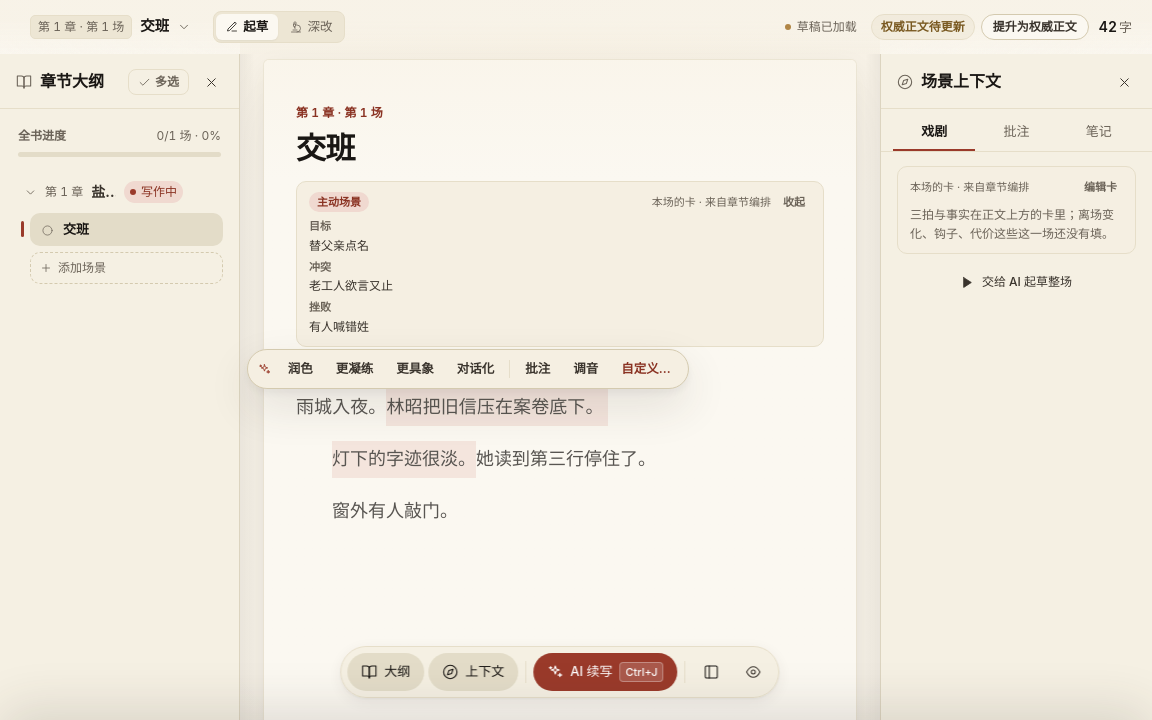
写作台 · 跨段改写按段换回（#20b） › 候选出来前选中的第二段被改了：不替换（说清楚原因），正文原样
This screenshot has width=1152, height=720.
Expected: the field with class "wr-editor" shows "林昭", [296,397,656,522]
Click the button "润色".
click(300, 369)  # box [277,354,324,384]
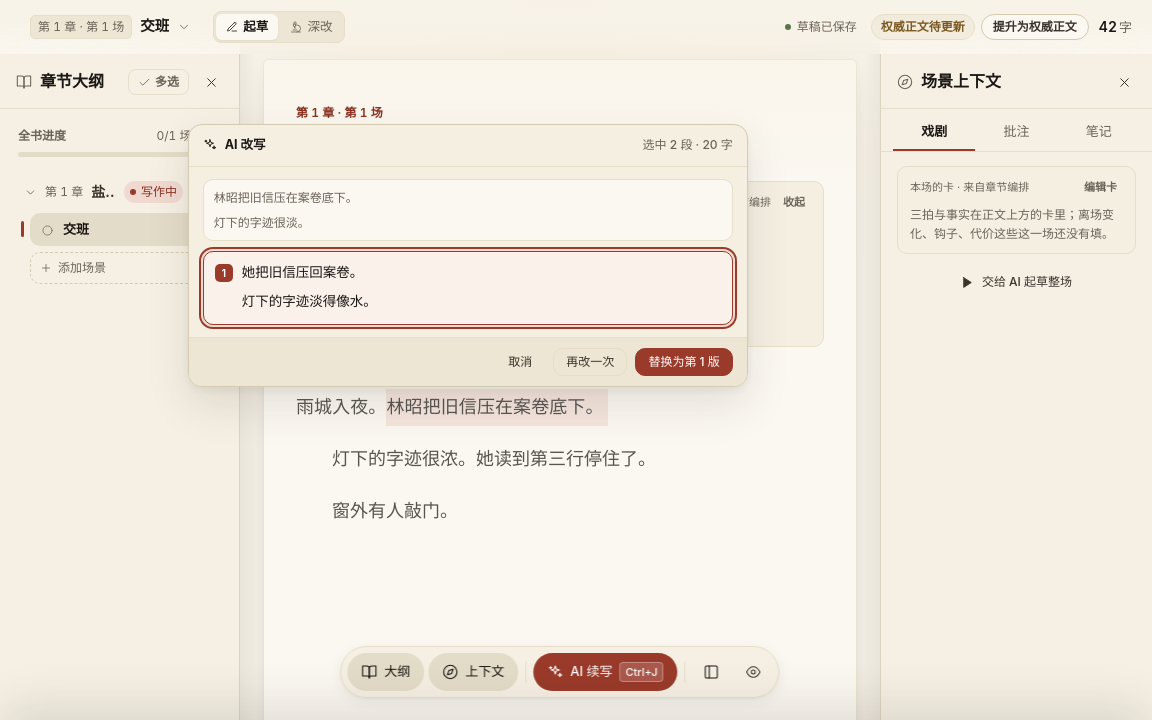
Now the button "替换为第 1 版" is shown
Click the button "替换为第 1 版".
click(684, 362)  # box [635,348,733,376]
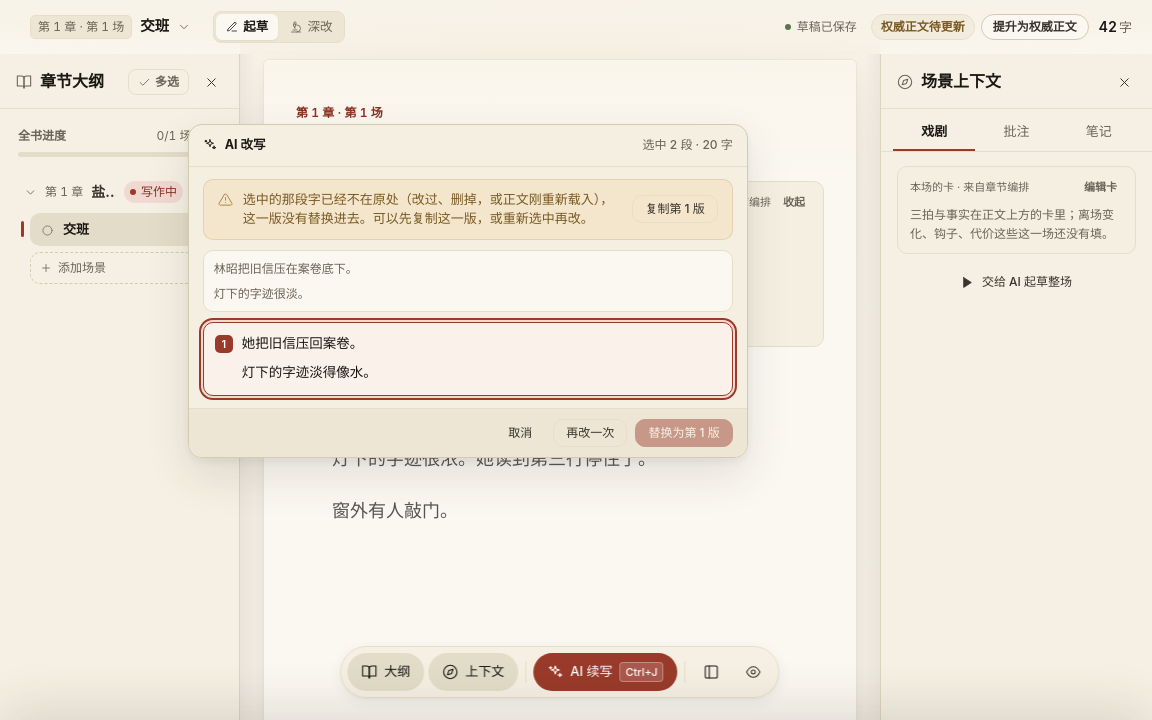
Now the dialog with class "wr-irw-pop" shows "选中的那段字已经不在原处", box [243,191,613,226]
